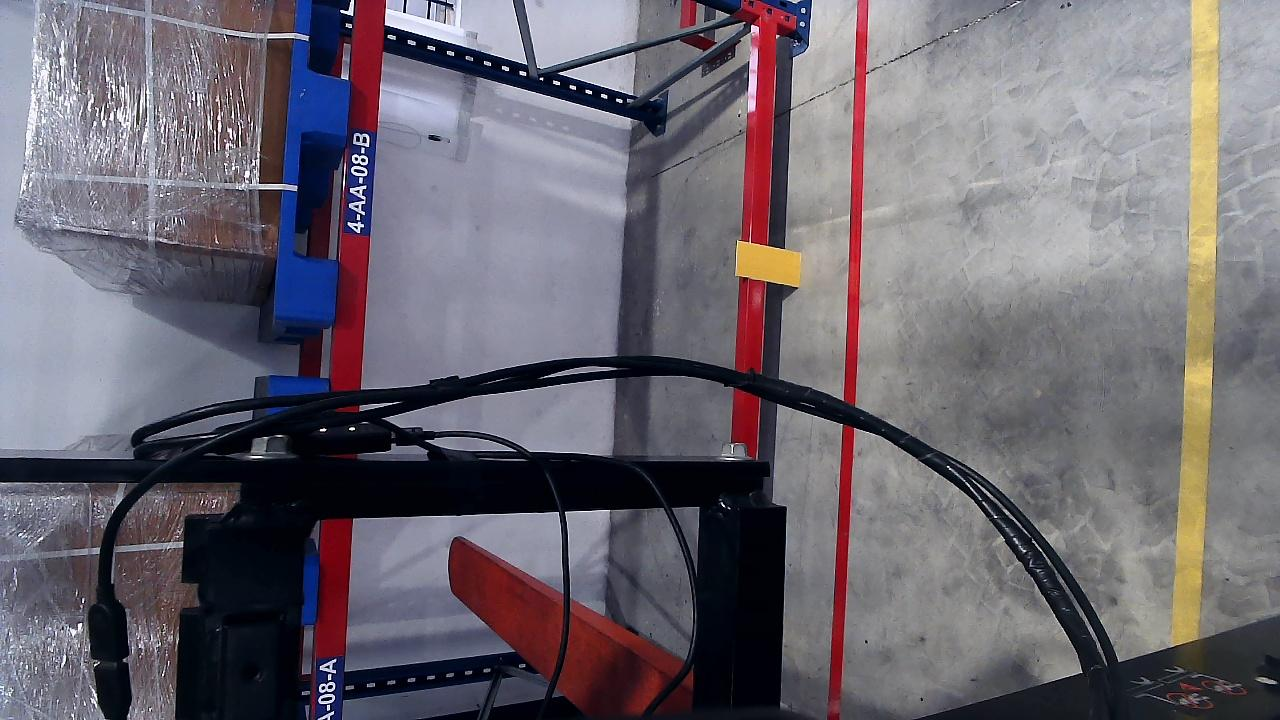h_rack: (312, 1, 389, 720), (725, 16, 779, 452)
orange_strip: (735, 241, 801, 287)
red_line: (820, 4, 868, 720)
small_pallet: (270, 1, 363, 318)
yellow_line: (1172, 0, 1221, 652)
